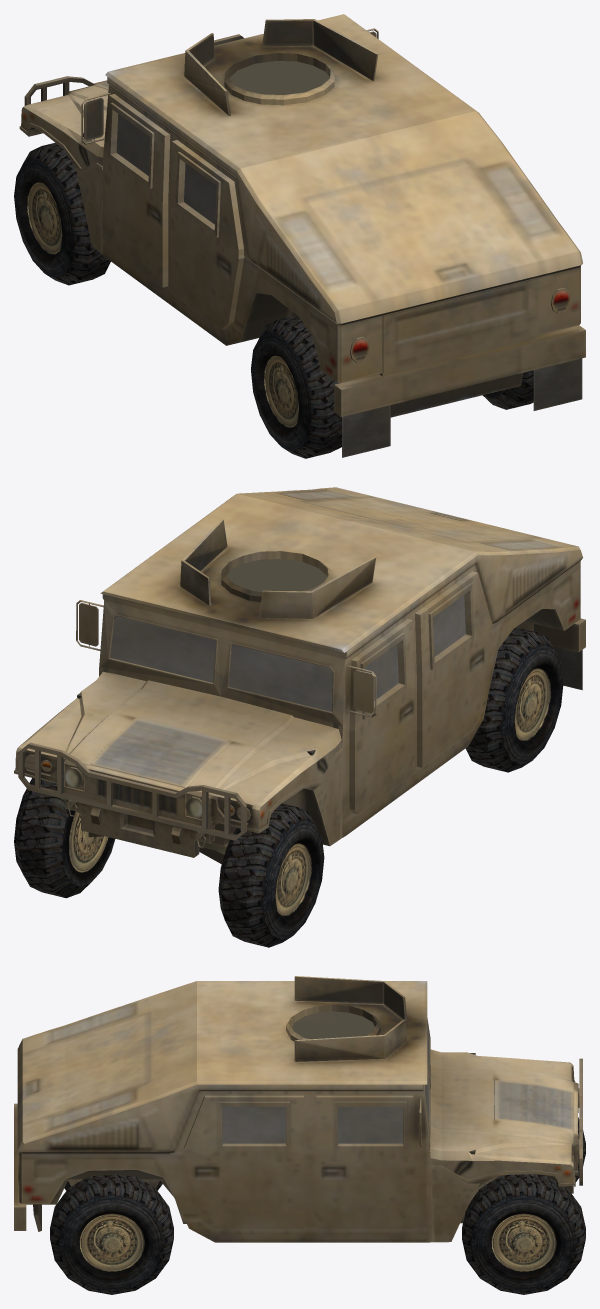
Rendered from hmmwv.DAE.
The picture shows the model from 3 angles, top to bottom: view 1: azimuth 30°, elevation 25°; view 2: azimuth 150°, elevation 25°; view 3: azimuth 270°, elevation 25°; orthographic projection. The views are drawn at different scales.
Visible parts, largest first — view 1: hull, wheels_spin001, wheels_spin_steer001, a_windowl, object001, wheels_spin002; view 2: hull, wheels_spin_steer001, wheels_spin001, a_windowf, wheels_spin_steer002, object001, a_windowl; view 3: hull, wheels_spin_steer002, wheels_spin002, a_windowr, object001.
Part boxes in pixels (x1,y1,x2,y2): hull: (19,14,585,457); wheels_spin001: (251,315,341,458); wheels_spin_steer001: (14,142,110,285); a_windowl: (116,114,216,224); object001: (83,61,329,198); wheels_spin002: (483,370,533,409); hull: (14,487,585,864); wheels_spin_steer001: (218,803,324,947); wheels_spin001: (465,627,563,772); a_windowf: (110,616,332,711); wheels_spin_steer002: (14,778,115,898); object001: (77,559,338,755); a_windowl: (364,595,465,700); hull: (14,976,582,1242); wheels_spin_steer002: (462,1174,585,1294); wheels_spin002: (50,1174,173,1294); a_windowr: (222,1107,402,1143); object001: (66,1011,475,1179).
Size of the model in its own units: 2.52 by 2.23 by 4.82.
3 materials, 3 textured.
